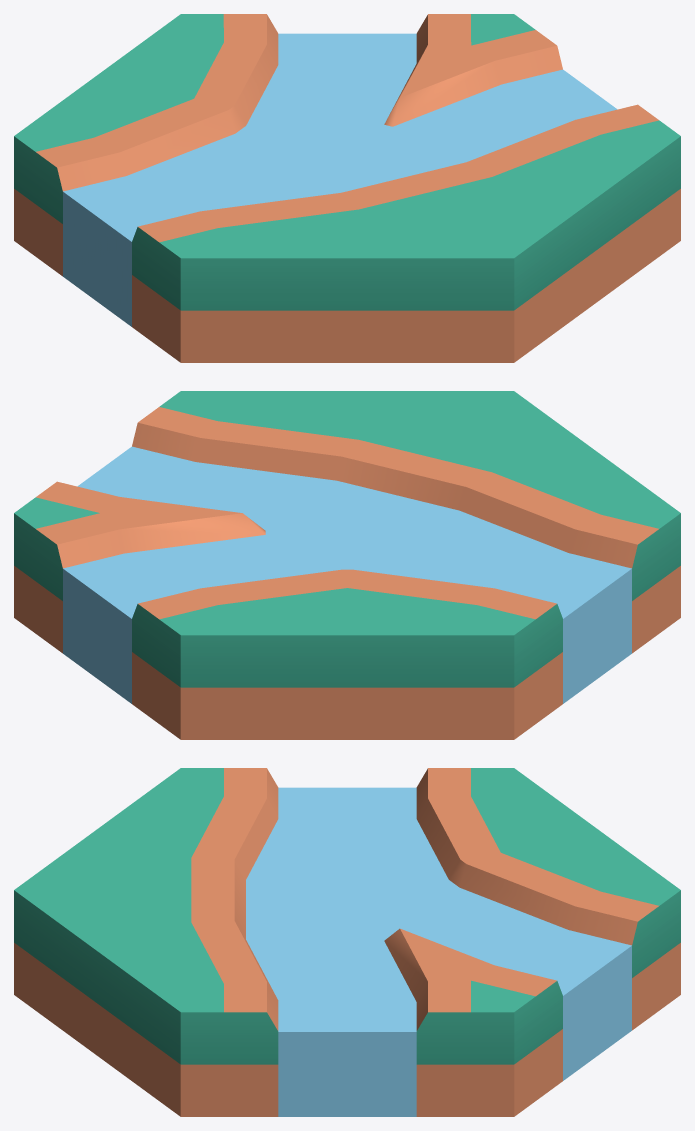
File: kenney-hexagon-river-intersectionb.glb
3 views of the same model, one above another, from view 1: azimuth 30°, elevation 25°; view 2: azimuth 150°, elevation 25°; view 3: azimuth 270°, elevation 25° (orthographic).
Visible parts, largest first — view 1: river_intersectionB; view 2: river_intersectionB; view 3: river_intersectionB.
Part boxes in pixels (x1,y1,x2,y2): river_intersectionB: (14,14,680,362); river_intersectionB: (14,391,680,739); river_intersectionB: (14,768,680,1116).
Bounding box in the file's own units: 1 × 0.2 × 1.15.
Materials: 1 (1 with a texture image).
